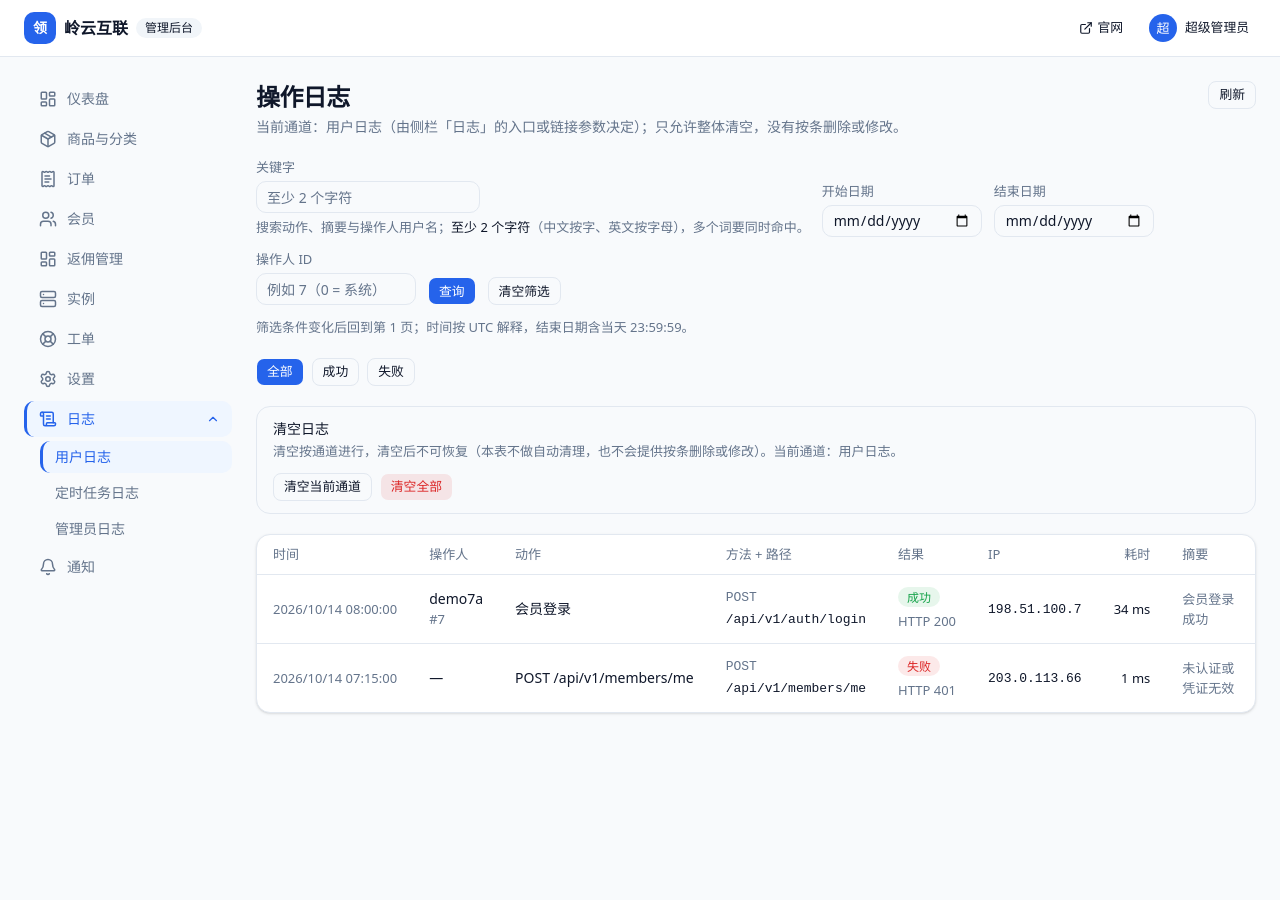
管理后台 · 操作日志 › 清空当前通道：二次确认后 DELETE 带该通道，成功后重新拉取列表
Expected: the heading "操作日志" is shown, [256,80,350,113]
Click the button "清空当前通道" at (322, 487), box [273,473,372,501]
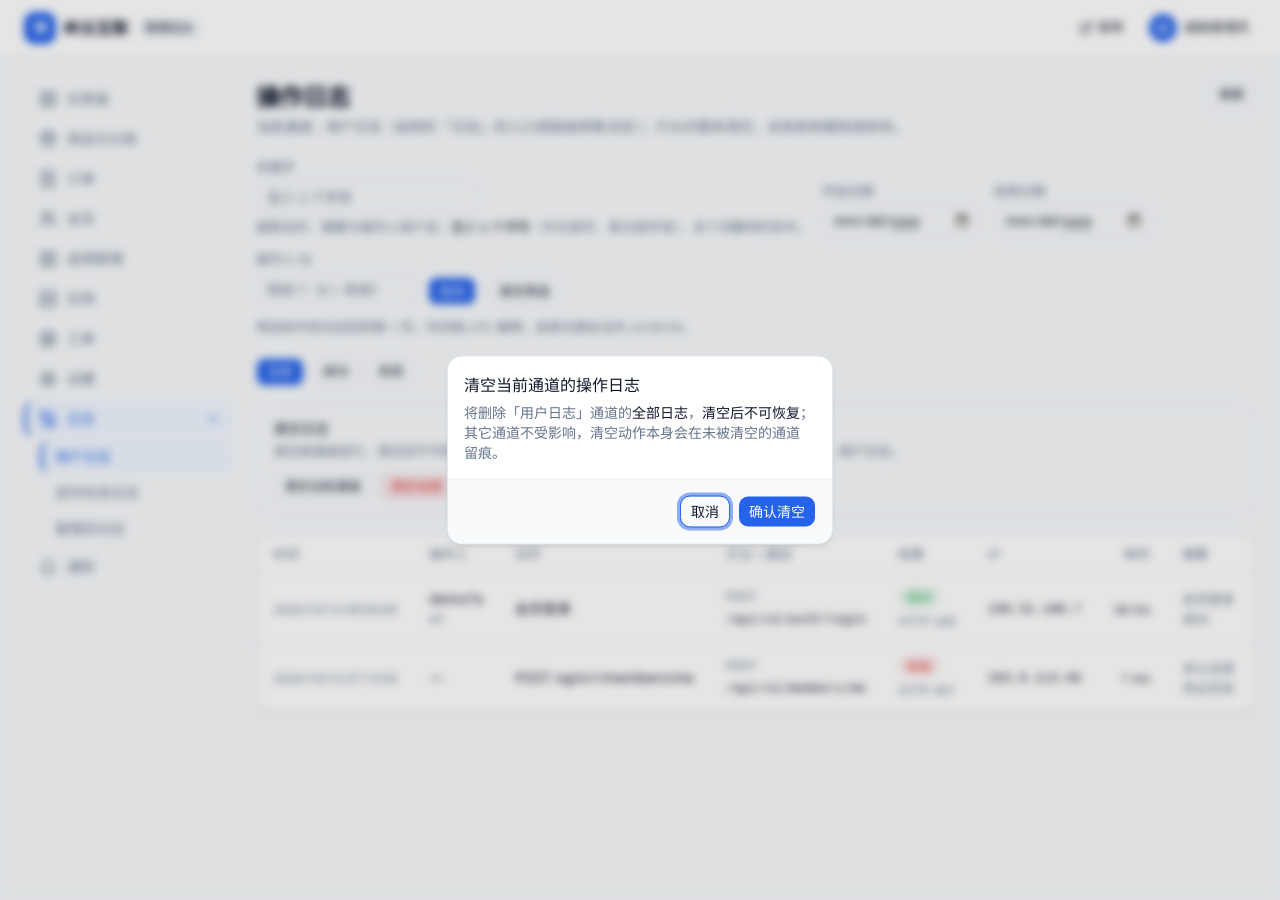
Expected: the heading "清空当前通道的操作日志" is shown, [464,372,640,396]
Expected: the text "全部日志" is shown, [632,402,688,422]
Expected: the text "清空后不可恢复" is shown, [702,402,800,422]
Click the button "确认清空" at (777, 512), box [738,496,816,528]
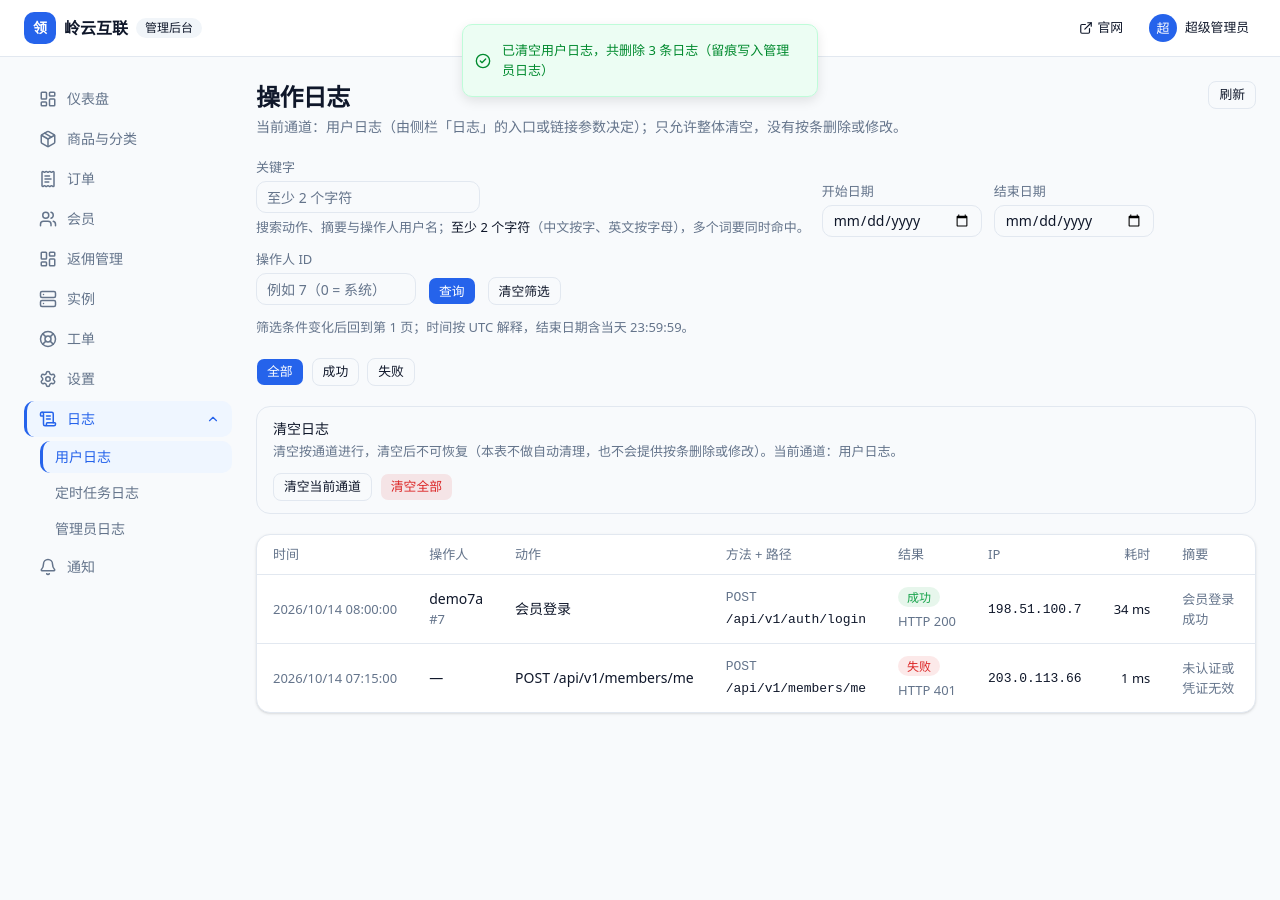
Expected: the text "已清空用户日志，共删除 3 条日志" is shown, [502,41,789,78]
